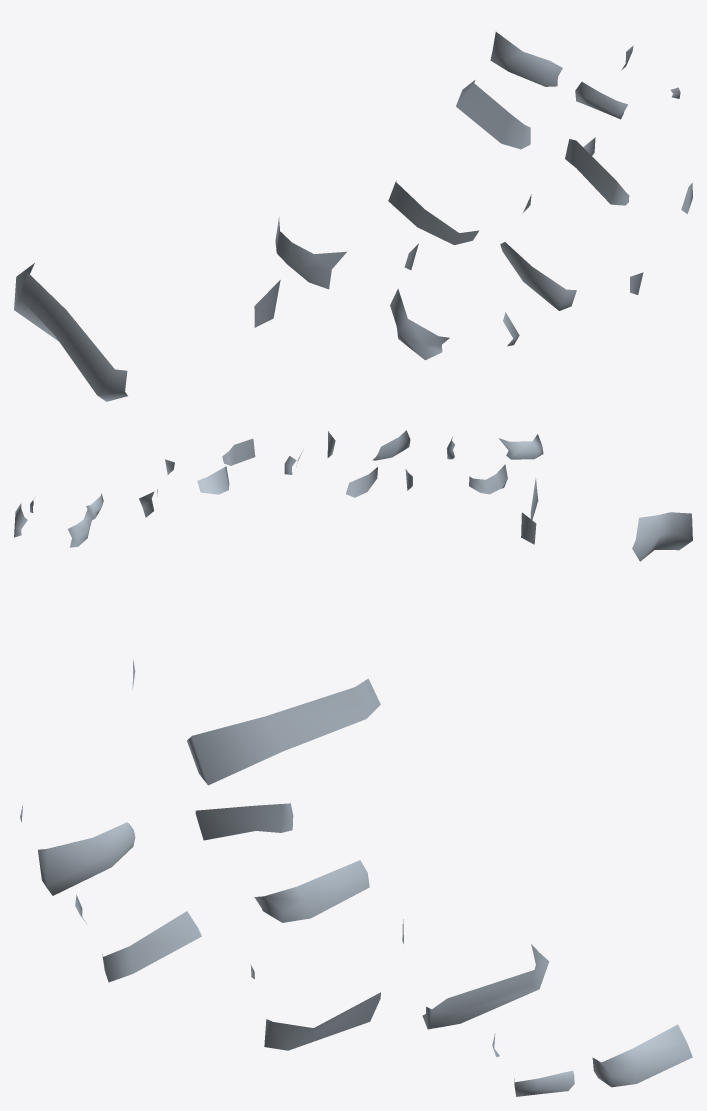
The model's file is collateral-interphalangeal-ligaments-of-foot-l.glb.
3 renders of one model, top to bottom at view 1: azimuth 30°, elevation 25°; view 2: azimuth 150°, elevation 25°; view 3: azimuth 270°, elevation 25°, orthographic. The views are drawn at different scales.
Parts seen in each view (by area): view 1: Collateral interphalangeal ligaments of foot.l; view 2: Collateral interphalangeal ligaments of foot.l; view 3: Collateral interphalangeal ligaments of foot.l.
Boxes of the visible parts, x1,y1,x2,y2 form: Collateral interphalangeal ligaments of foot.l: [14, 32, 692, 401]; Collateral interphalangeal ligaments of foot.l: [14, 430, 692, 561]; Collateral interphalangeal ligaments of foot.l: [20, 659, 692, 1096].
Bounding box in the file's own units: 0.0782 × 0.00929 × 0.0543.
